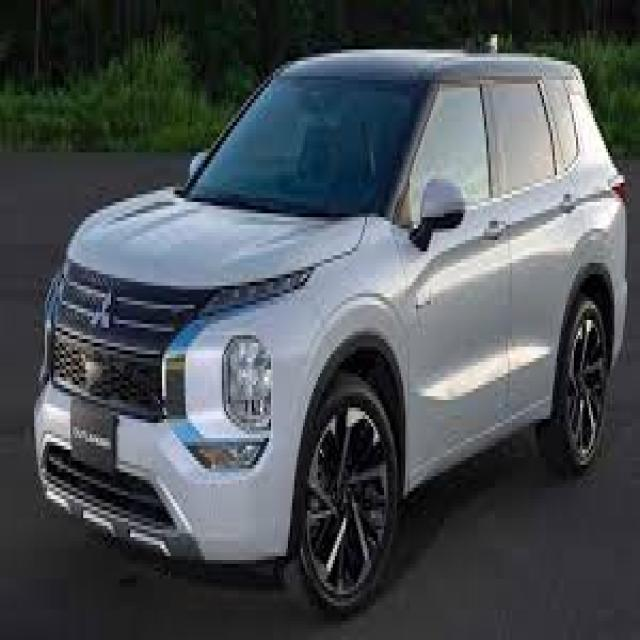light_vehicle: (32, 48, 631, 615)
